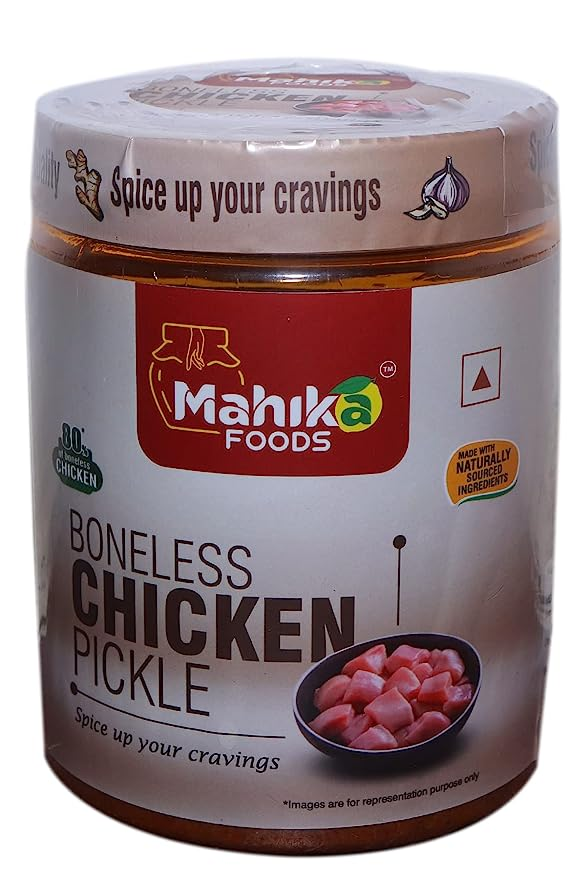non_veg: (462, 339, 505, 421)
